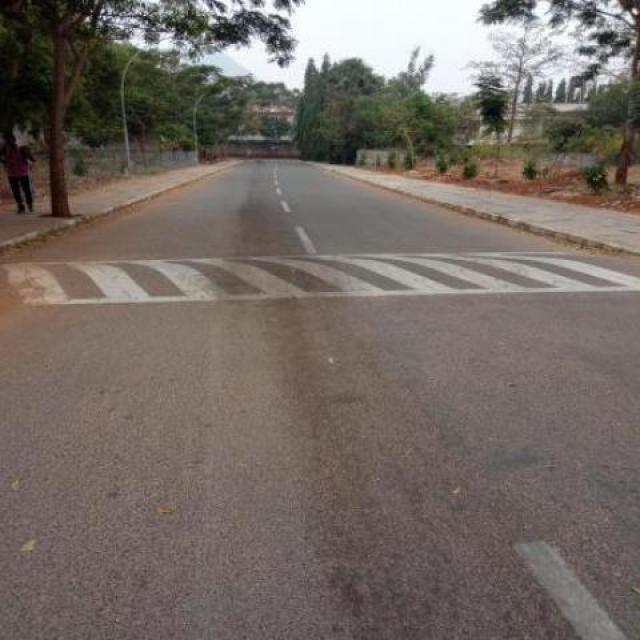Speed Bump: (0, 252, 639, 303)
